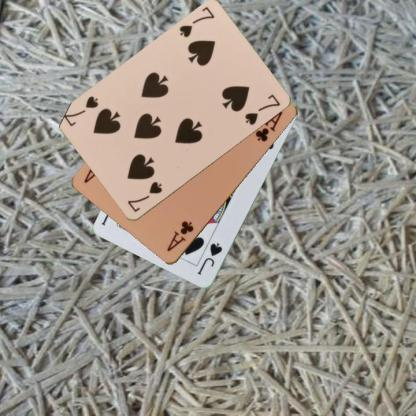7s: (176, 4, 216, 39), (125, 179, 163, 214)
Ac: (164, 218, 195, 253)
Js: (194, 240, 224, 277)
